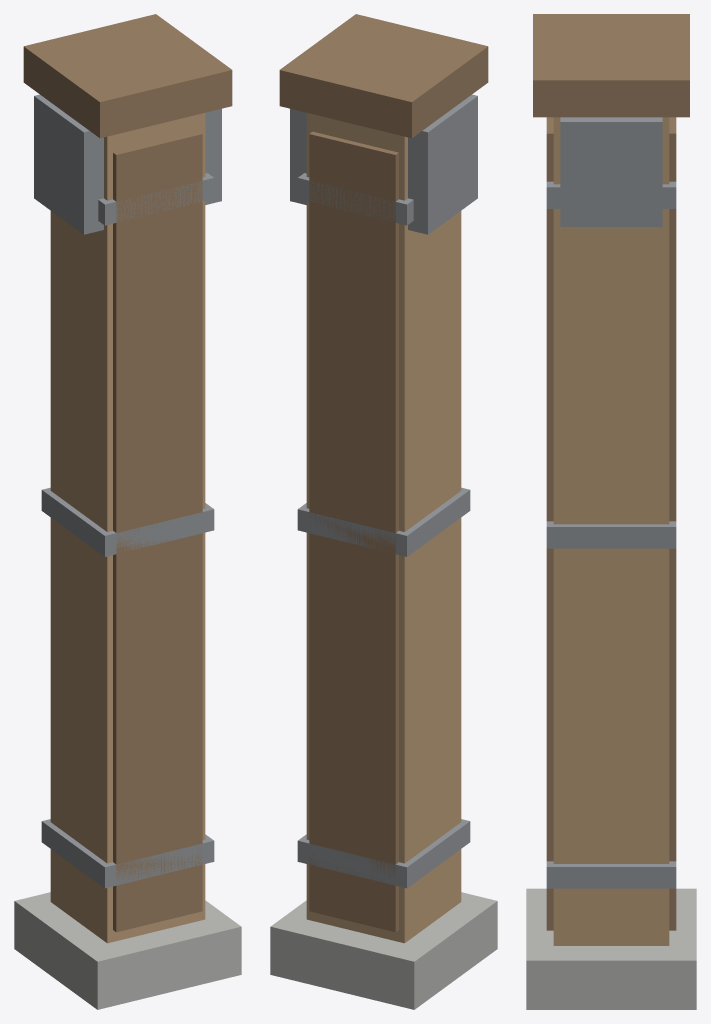
Rendered from pillar.glb.
The picture shows the model from 3 angles, left to right: view 1: azimuth 30°, elevation 25°; view 2: azimuth 150°, elevation 25°; view 3: azimuth 270°, elevation 25°; orthographic projection. The views are drawn at different scales.
Visible parts, largest first — view 1: pillar; view 2: pillar; view 3: pillar.
Boxes of the visible parts, x1,y1,x2,y2 form: pillar: [14, 14, 241, 1009]; pillar: [270, 14, 497, 1009]; pillar: [526, 14, 696, 1009].
Bounding box in the file's own units: 0.5 × 3 × 0.5.
